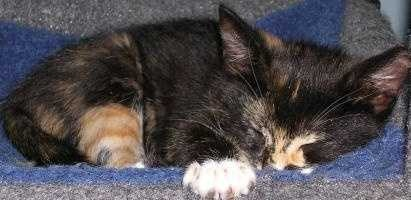Cat: (136, 5, 410, 199)
